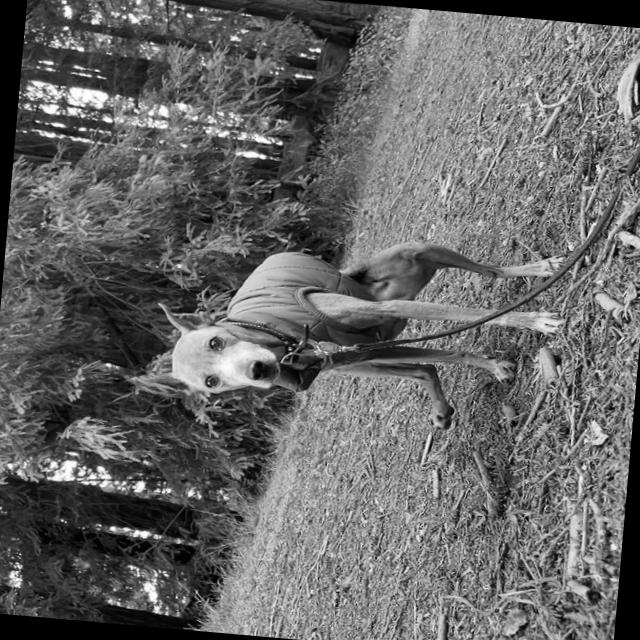squatting: (134, 199, 576, 447)
